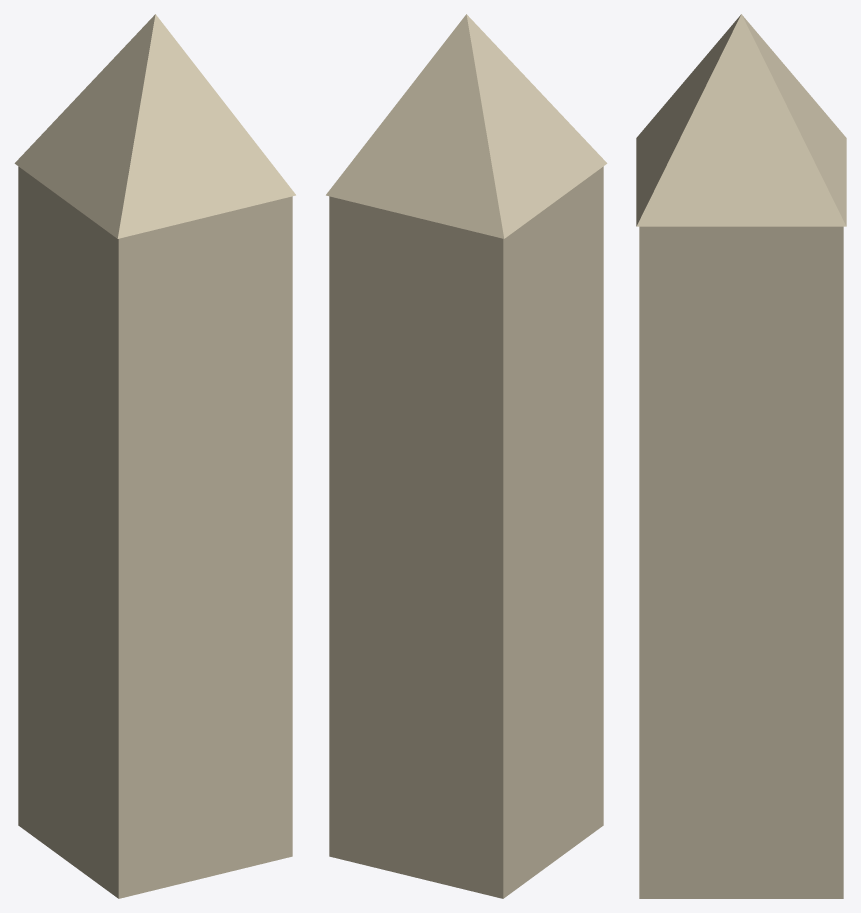
File: biome-clover-fencePost.glb
3 renders of one model, left to right at view 1: azimuth 30°, elevation 25°; view 2: azimuth 150°, elevation 25°; view 3: azimuth 270°, elevation 25°, orthographic.
Size of the model in its own units: 0.2263 by 1 by 0.2263.
